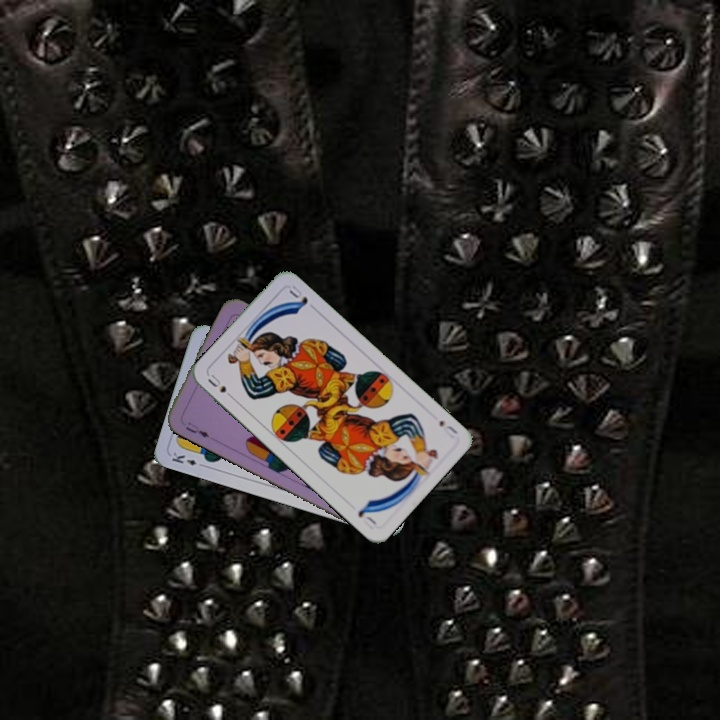EK: (168, 448, 208, 470)
EU: (181, 418, 212, 440)
SU: (204, 370, 238, 403), (435, 416, 461, 441)
